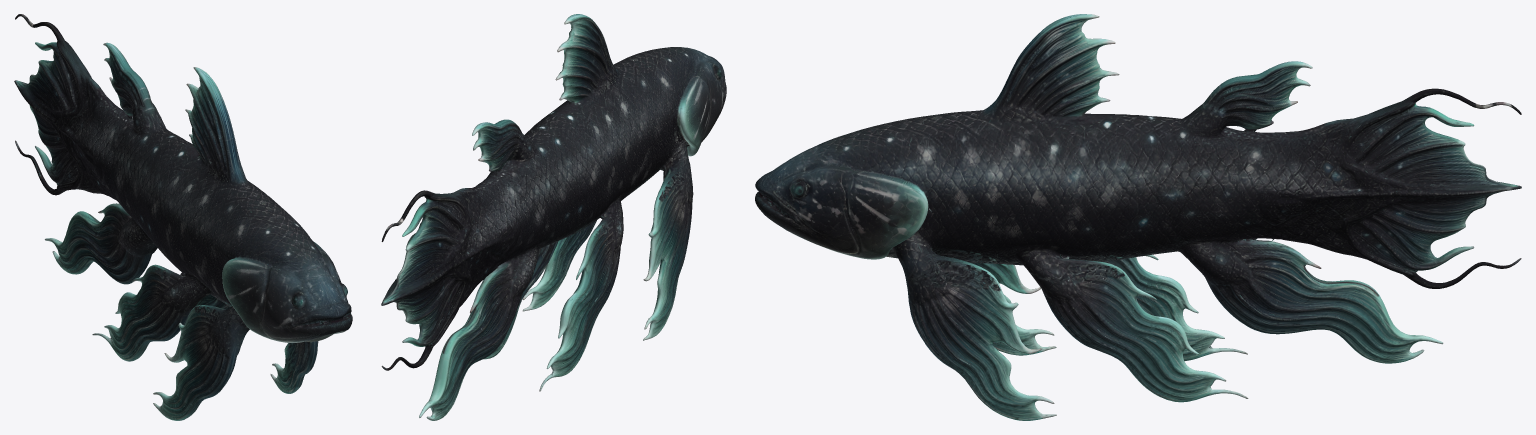
File: fish_coelacanth.glb
The picture shows the model from 3 angles, left to right: view 1: azimuth 30°, elevation 25°; view 2: azimuth 150°, elevation 25°; view 3: azimuth 270°, elevation 25°; orthographic projection. The views are drawn at different scales.
Parts seen in each view (by area): view 1: Mesh1.0; view 2: Mesh1.0; view 3: Mesh1.0.
Boxes of the visible parts, x1=… form: Mesh1.0: x1=14, y1=14, x2=352, y2=420; Mesh1.0: x1=381, y1=14, x2=726, y2=420; Mesh1.0: x1=755, y1=14, x2=1521, y2=420.
Size of the model in its own units: 0.4117 by 1.02 by 1.9.
Materials: 1 (1 with a texture image).
